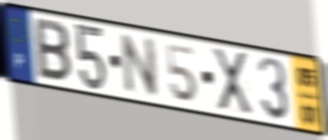3: (257, 55, 290, 123)
5: (72, 20, 107, 92), (164, 41, 199, 104)
B: (33, 15, 73, 86)
N: (120, 31, 160, 99)
X: (210, 46, 255, 117)
